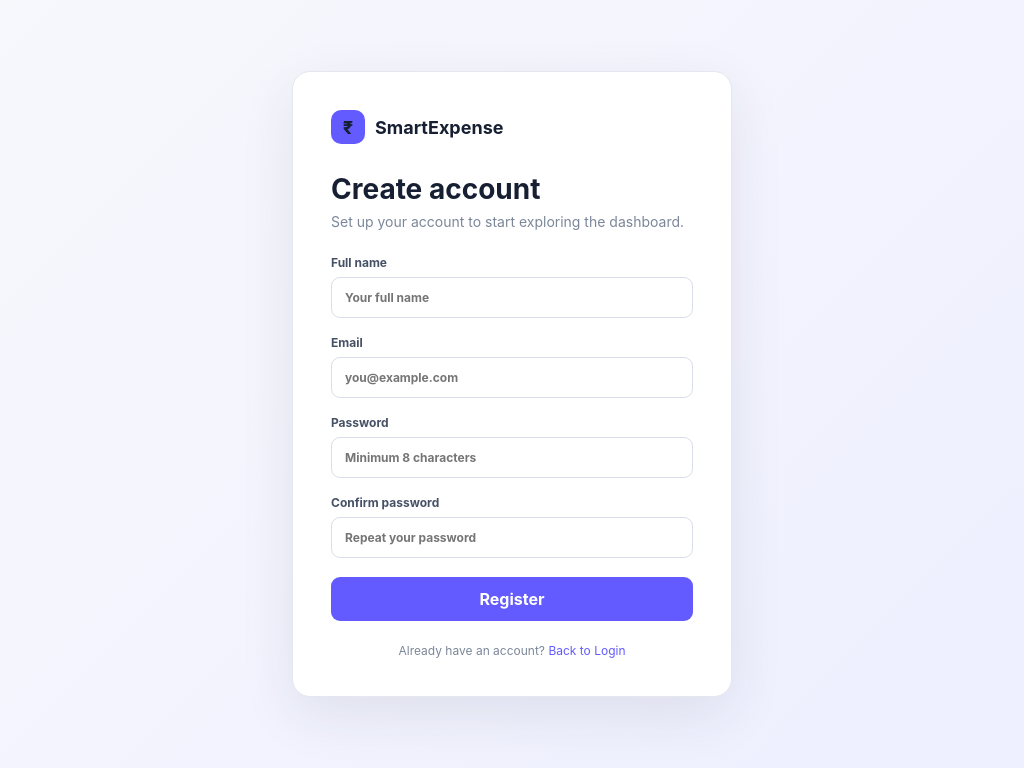
authentication screens › does not submit registration when confirmation passwords differ
This screenshot has width=1024, height=768.
In the field labelled "Full name": (512, 298) [331, 277, 693, 318], type "Test User"
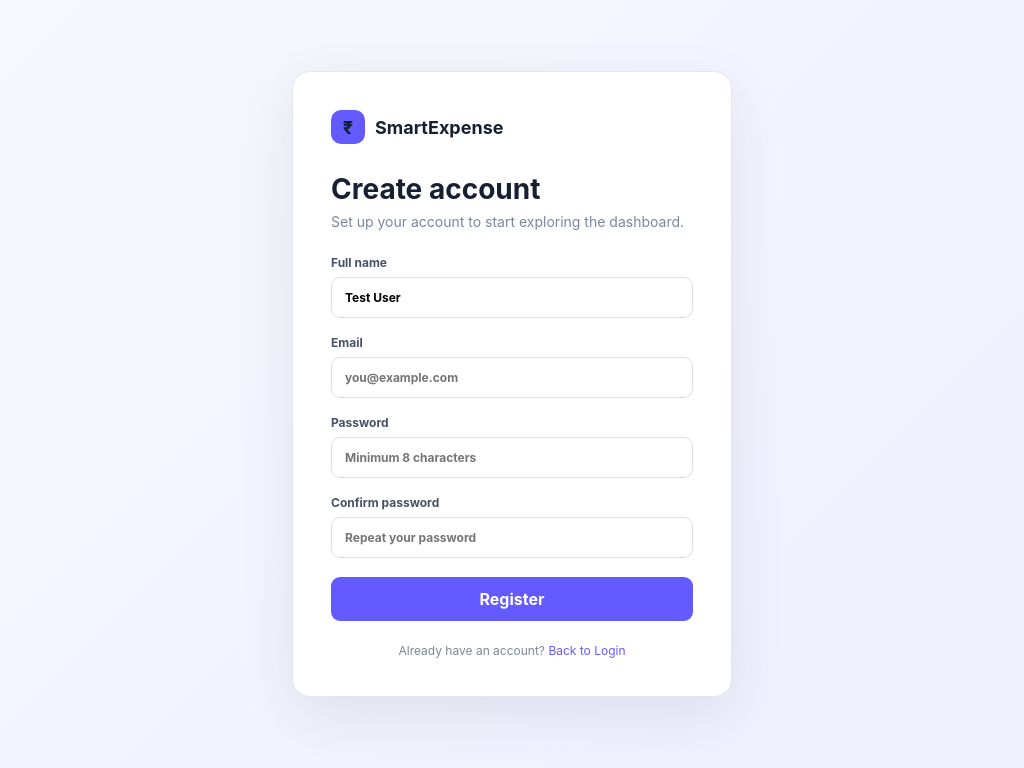
In the field labelled "Email": (512, 378) [331, 357, 693, 398], type "test@example.com"
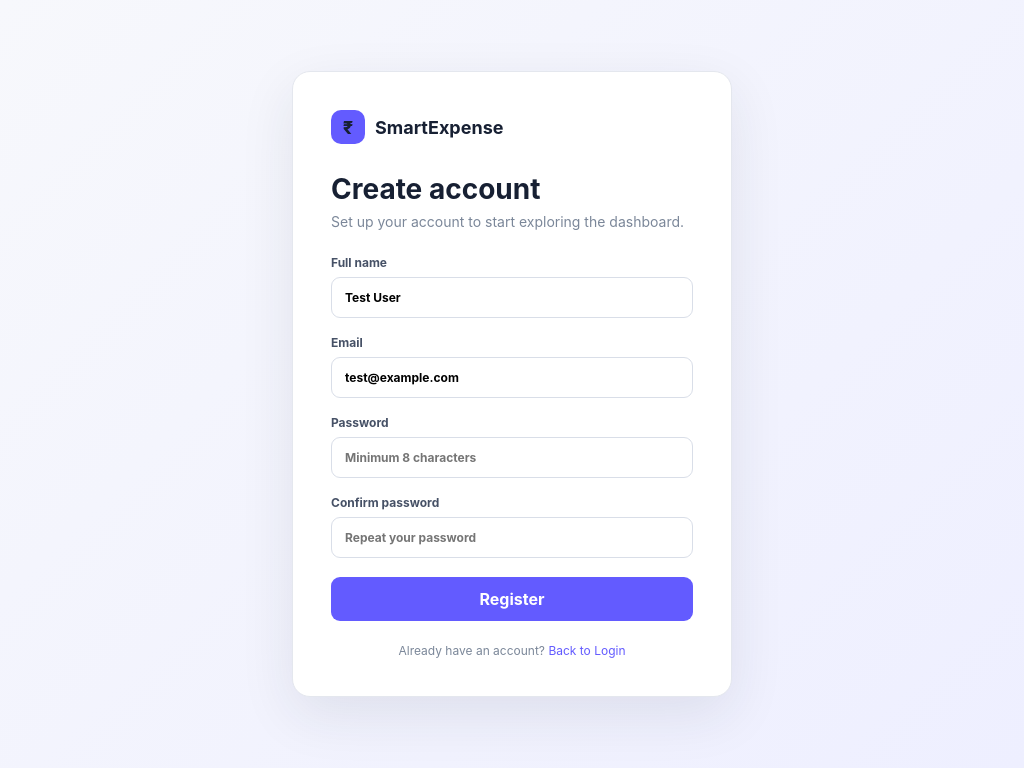
In the password field labelled "Password": (512, 458) [331, 437, 693, 478], type "correct horse battery"
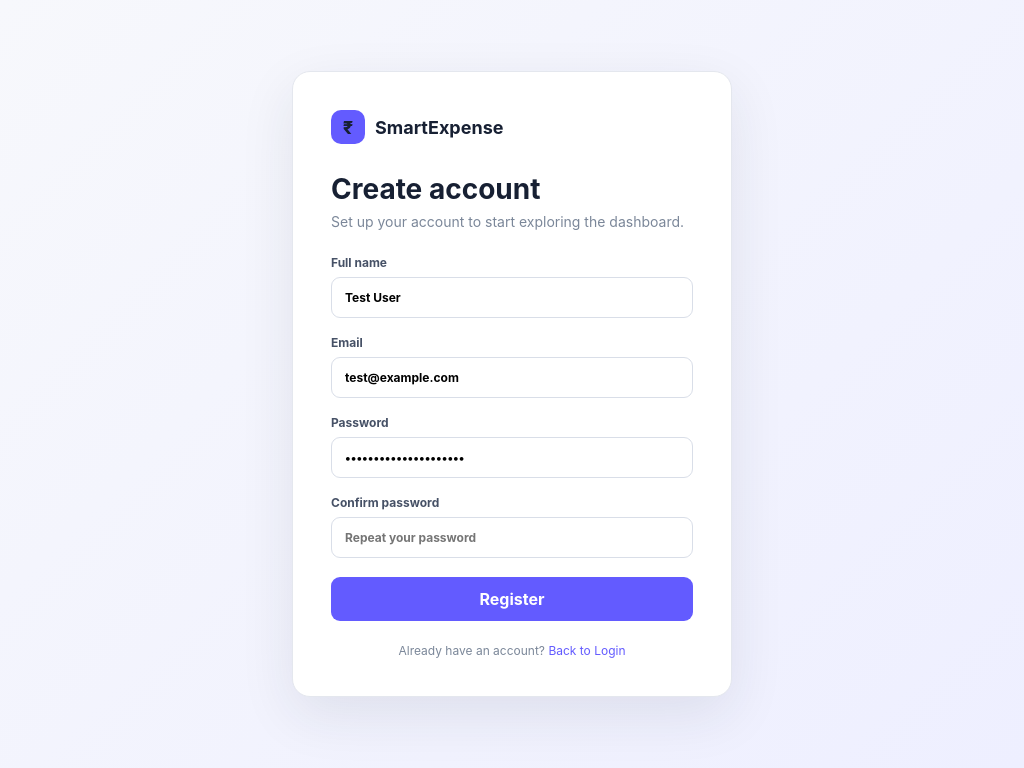
In the password field labelled "Confirm password": (512, 538) [331, 517, 693, 558], type "different password"
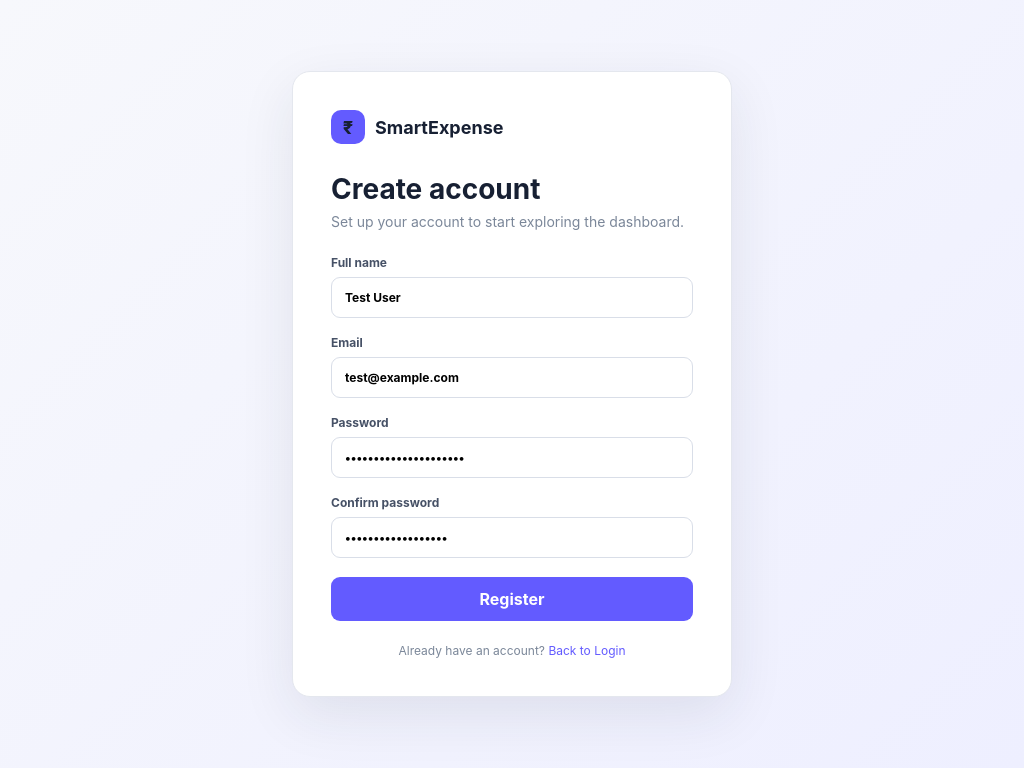
Click the button "Register": (512, 599) [331, 577, 693, 621]
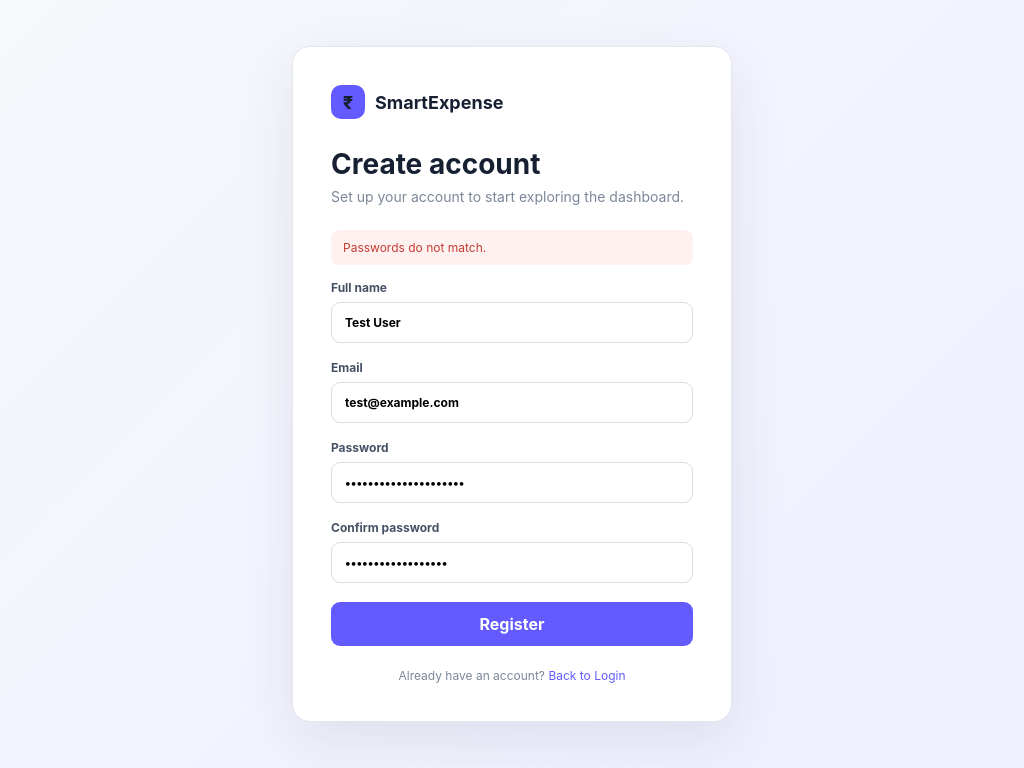
Expected: the message reads "Passwords do not match.", [343, 240, 486, 255]
